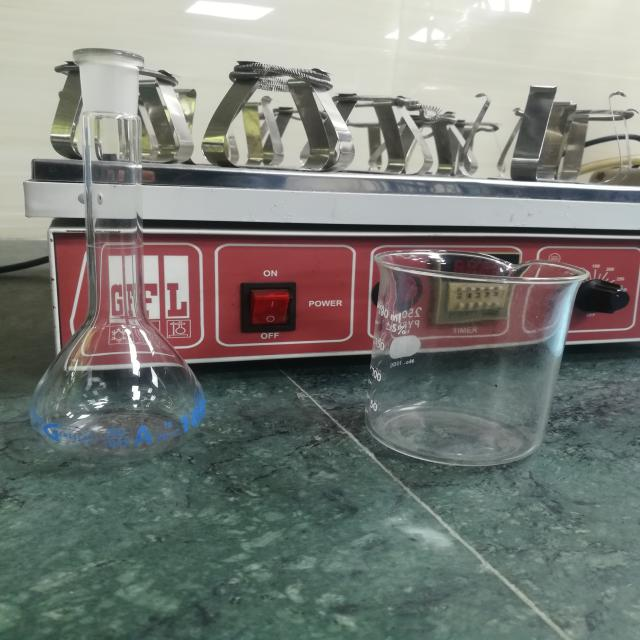Beaker: (336, 232, 602, 501)
Volumetric_Flask: (9, 24, 260, 488)
